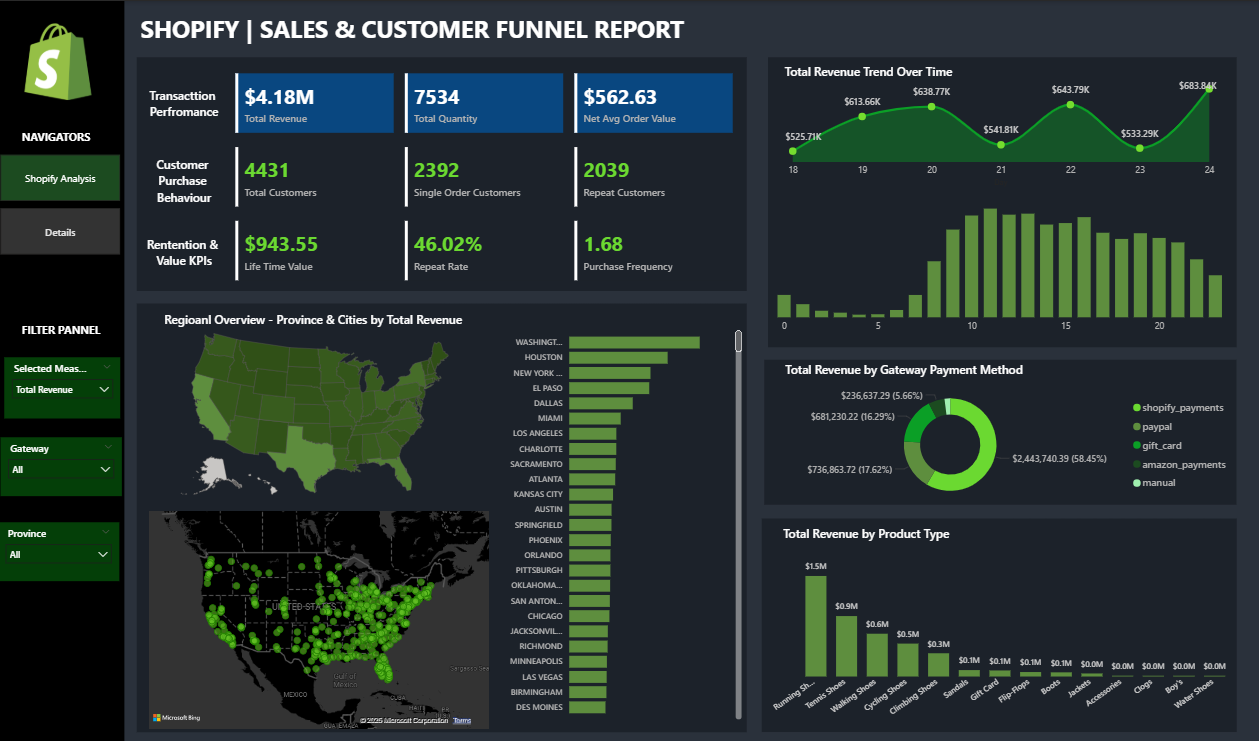

The page's visual inventory and layout, read from the dashboard file:
{"tool":"powerbi","page":{"name":"Shopify Analysis","canvas":[1700,1000],"ordinal":0},"visuals":[{"type":"shape","box":[0,0,170,1000.3],"z":0},{"type":"textbox","box":[186.6,10.1,785.1,70.6],"z":1000},{"type":"shape","box":[186.6,75.7,820.4,314.4],"z":2000},{"type":"cardVisual","fields":{"Data":["Key Measures.Total Revenue","Key Measures.Total Quantity","Key Measures.Net Avg Order Value"]},"box":[314.4,92.5,679.2,90.8],"z":3000},{"type":"card","fields":{"Values":["Key Measures.Transaction pref"]},"box":[186.6,94.1,127.8,87.4],"z":4000},{"type":"cardVisual","fields":{"Data":["Key Measures.Total Customer","Key Measures.Single Order Customers","Key Measures.Repeate Customers"]},"box":[314.4,191.7,679.2,90.8],"z":5000},{"type":"card","fields":{"Values":["Key Measures.Customer Purchase Behaviour"]},"box":[186.6,195,127.8,87.4],"z":6000},{"type":"cardVisual","fields":{"Data":["Key Measures.Life Time Value","Key Measures.Repeate Rate","Key Measures.Purchase Frequency"]},"box":[314.4,290.9,679.2,90.8],"z":7000},{"type":"card","fields":{"Values":["Key Measures.Rentention & Value KPIs"]},"box":[186.6,294.2,127.8,87.4],"z":8000},{"type":"shape","box":[186.6,406.9,820.4,576.7],"z":9000},{"type":"slicer","fields":{"Values":["Selected Measures.Selected Measures"]},"box":[8.4,479.2,156.4,82.4],"z":10000},{"type":"shapeMap","fields":{"Value":["Key Measures.Total Revenue"],"Category":["shopify_sales.Billing Address Province"]},"box":[198.4,430.4,455.6,250.5],"z":11000},{"type":"map","fields":{"Category":["shopify_sales.Location"]},"box":[198.4,680.9,467.4,302.6],"z":12000},{"type":"clusteredBarChart","fields":{"Y":["Key Measures.Total Revenue"],"Category":["shopify_sales.CITY"]},"box":[672.5,430.4,332.9,541.4],"z":13000},{"type":"card","fields":{"Values":["Key Measures.Map Title"]},"box":[190,408.5,464,43.7],"z":14000},{"type":"shape","box":[1035.6,75.7,630.5,390],"z":15000},{"type":"areaChart","fields":{"Y":["Key Measures.Total Revenue"],"Category":["shopify_sales.Invoice Date.Variation.Date Hierarchy.Day"]},"box":[1054.1,95.8,590.1,159.7],"z":16000},{"type":"columnChart","fields":{"Y":["Key Measures.Total Revenue"],"Category":["shopify_sales.Hour"]},"box":[1042.4,250.5,610.3,205.1],"z":17000},{"type":"card","fields":{"Values":["Key Measures.Trend Title"]},"box":[1022.2,74,297.6,45.4],"z":18000},{"type":"shape","box":[1030.6,482.5,635.5,195],"z":19000},{"type":"donutChart","fields":{"Y":["Key Measures.Total Revenue"],"Category":["shopify_sales.Gateway"]},"box":[1030.6,512.8,635.5,168.1],"z":20000},{"type":"card","fields":{"Values":["Key Measures.Gateway Title"]},"box":[1023.9,480.8,390,33.6],"z":21000},{"type":"shape","box":[1027.2,696,638.9,287.5],"z":22000},{"type":"columnChart","fields":{"Y":["Key Measures.Total Revenue"],"Category":["shopify_sales.Product Type"]},"box":[1035.6,734.7,637.2,237.1],"z":23000},{"type":"card","fields":{"Values":["Key Measures.Product Title"]},"box":[1010.4,701.1,319.4,33.6],"z":24000},{"type":"image","box":[6.7,25.2,147.9,112.6],"z":25000},{"type":"slicer","fields":{"Values":["shopify_sales.Gateway"]},"box":[2.7,586.1,163.1,79],"z":26000},{"type":"slicer","fields":{"Values":["shopify_sales.Billing Address Province"]},"box":[0,701.1,163.1,79],"z":27000},{"type":"pageNavigator","box":[3.4,206.8,161.4,134.5],"z":27001},{"type":"textbox","box":[26.9,168.1,119.4,38.7],"z":27002},{"type":"textbox","box":[26.9,427,127.8,38.7],"z":27003}]}

Visuals, with their boxes on the page's 1700x1000 design canvas (x1, y1, x2, y2). These are canvas units, not pixel positions in the 1259x741 screenshot, which may show the page scaled, cropped or inside an application window:
shape: (0,0,170,1000)
textbox: (187,10,972,81)
shape: (187,76,1007,390)
cardVisual - Key Measures.Total Revenue x Key Measures.Total Quantity: (314,92,994,183)
card - Key Measures.Transaction pref: (187,94,314,182)
cardVisual - Key Measures.Total Customer x Key Measures.Single Order Customers: (314,192,994,282)
card - Key Measures.Customer Purchase Behaviour: (187,195,314,282)
cardVisual - Key Measures.Life Time Value x Key Measures.Repeate Rate: (314,291,994,382)
card - Key Measures.Rentention & Value KPIs: (187,294,314,382)
shape: (187,407,1007,984)
slicer - Selected Measures.Selected Measures: (8,479,165,562)
shapeMap - Key Measures.Total Revenue x shopify_sales.Billing Address Province: (198,430,654,681)
map - shopify_sales.Location: (198,681,666,984)
clusteredBarChart - Key Measures.Total Revenue x shopify_sales.CITY: (672,430,1005,972)
card - Key Measures.Map Title: (190,408,654,452)
shape: (1036,76,1666,466)
areaChart - Key Measures.Total Revenue x shopify_sales.Invoice Date.Variation.Date Hierarchy.Day: (1054,96,1644,256)
columnChart - Key Measures.Total Revenue x shopify_sales.Hour: (1042,250,1653,456)
card - Key Measures.Trend Title: (1022,74,1320,119)
shape: (1031,482,1666,678)
donutChart - Key Measures.Total Revenue x shopify_sales.Gateway: (1031,513,1666,681)
card - Key Measures.Gateway Title: (1024,481,1414,514)
shape: (1027,696,1666,984)
columnChart - Key Measures.Total Revenue x shopify_sales.Product Type: (1036,735,1673,972)
card - Key Measures.Product Title: (1010,701,1330,735)
image: (7,25,155,138)
slicer - shopify_sales.Gateway: (3,586,166,665)
slicer - shopify_sales.Billing Address Province: (0,701,163,780)
pageNavigator: (3,207,165,341)
textbox: (27,168,146,207)
textbox: (27,427,155,466)
